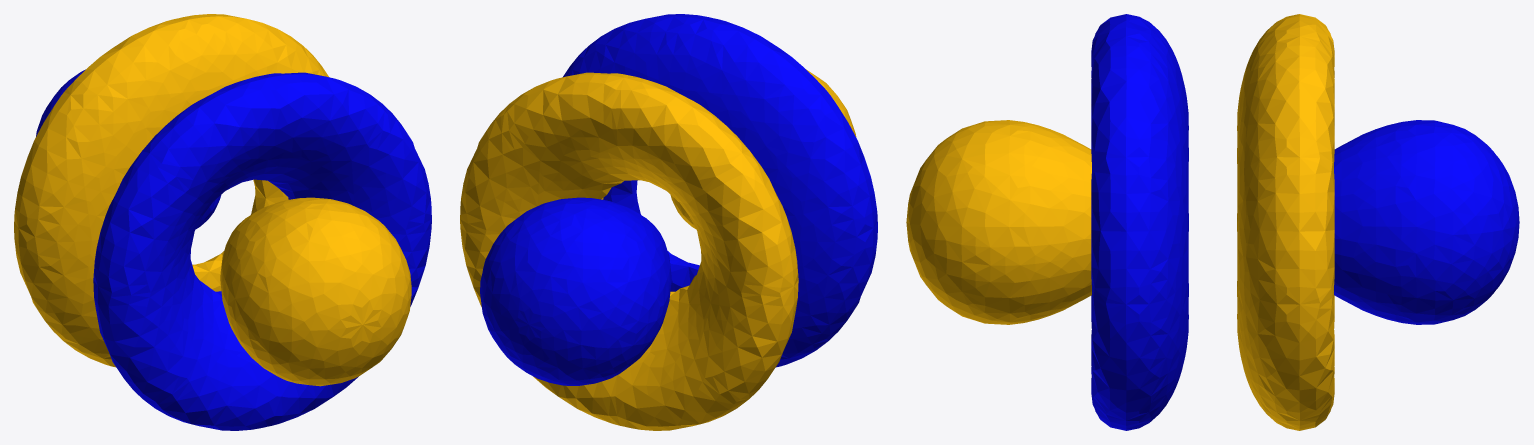
The picture shows the model from 3 angles, left to right: view 1: azimuth 30°, elevation 25°; view 2: azimuth 150°, elevation 25°; view 3: azimuth 270°, elevation 25°; orthographic projection. The views are drawn at different scales.
Bounding box in the file's own units: 19.18 × 19.18 × 28.18.
